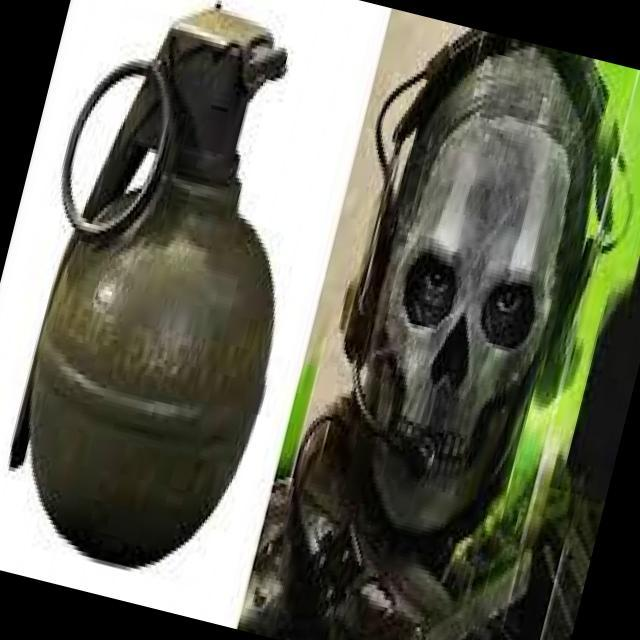grenade: (0, 0, 349, 594)
